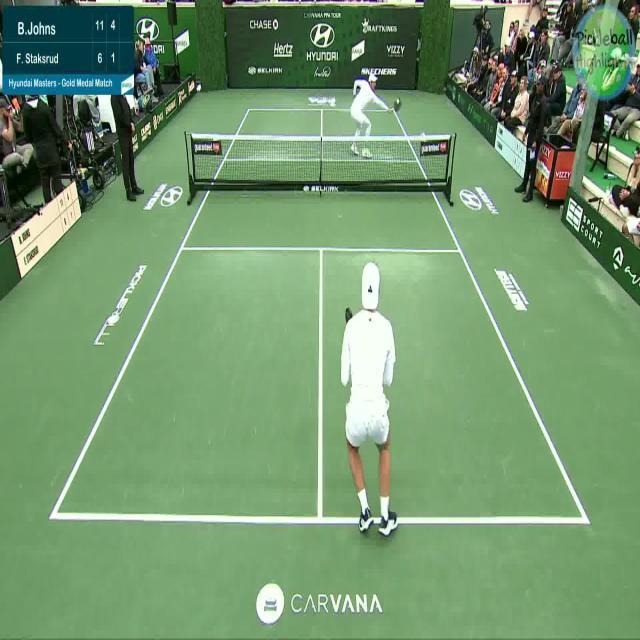Court: (50, 111, 586, 519)
ball: (391, 89, 404, 111)
